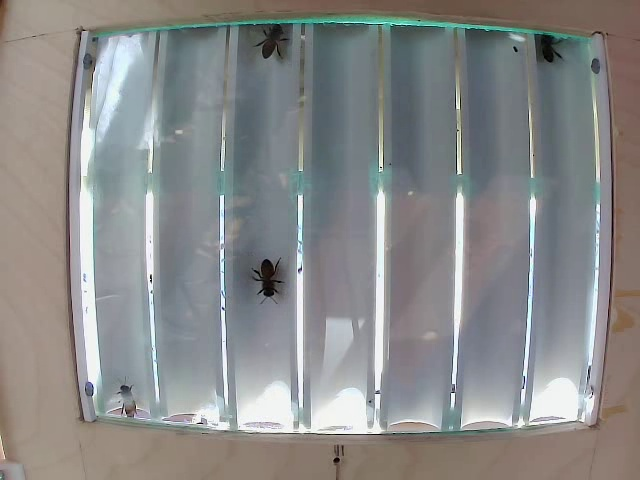bee: (265, 19, 323, 85), (251, 253, 294, 305)
